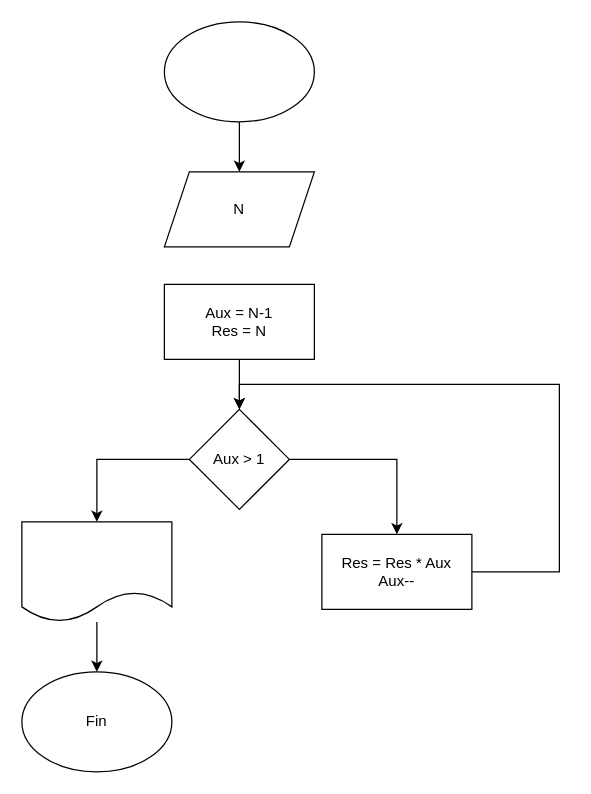
Some shapes in this 591 by 794 pixel diagram are drawn without their labels. Each missing label, with the centre of its shape:
Inicio: (238,71)
Res: (96,571)
